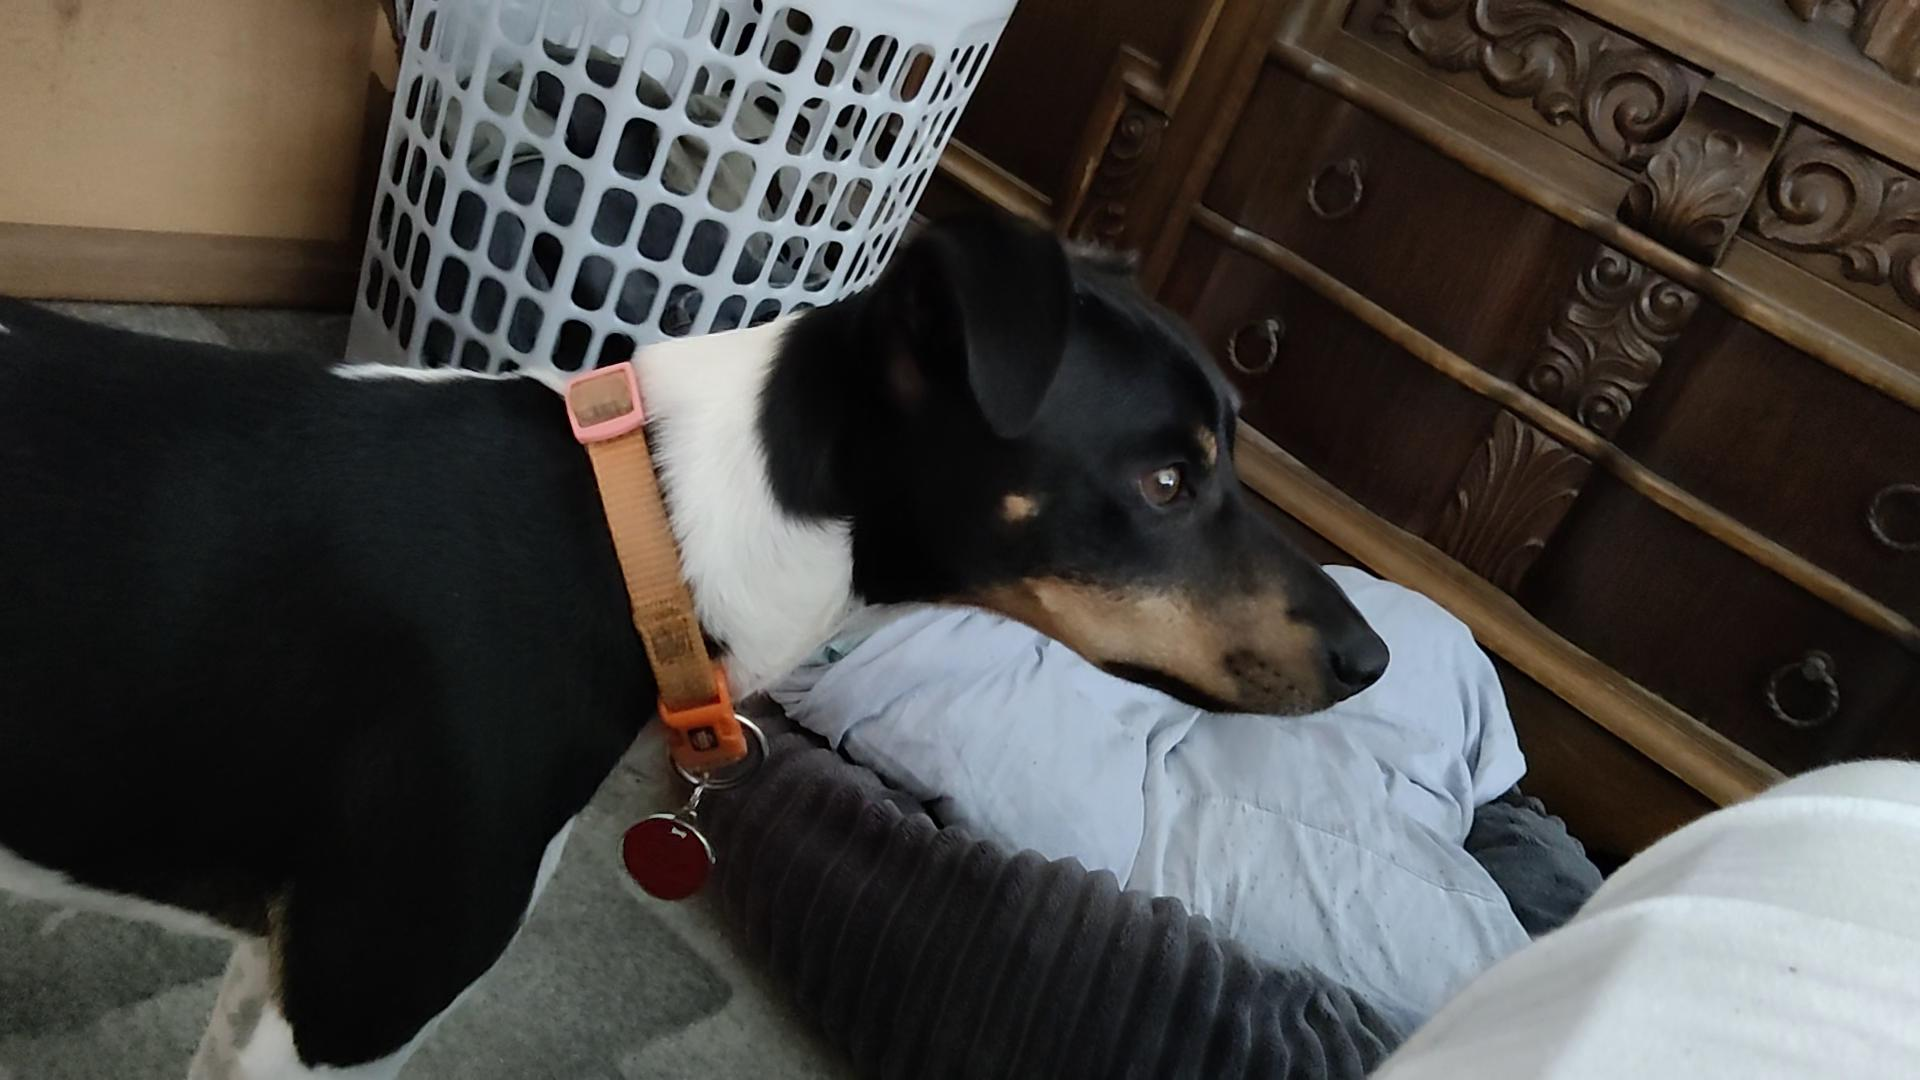Dog: (0, 196, 1400, 1079)
